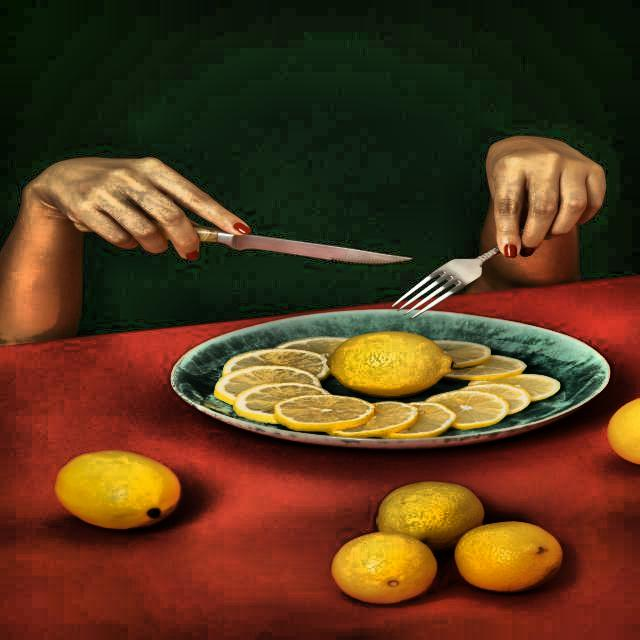knife: (61, 215, 414, 269)
